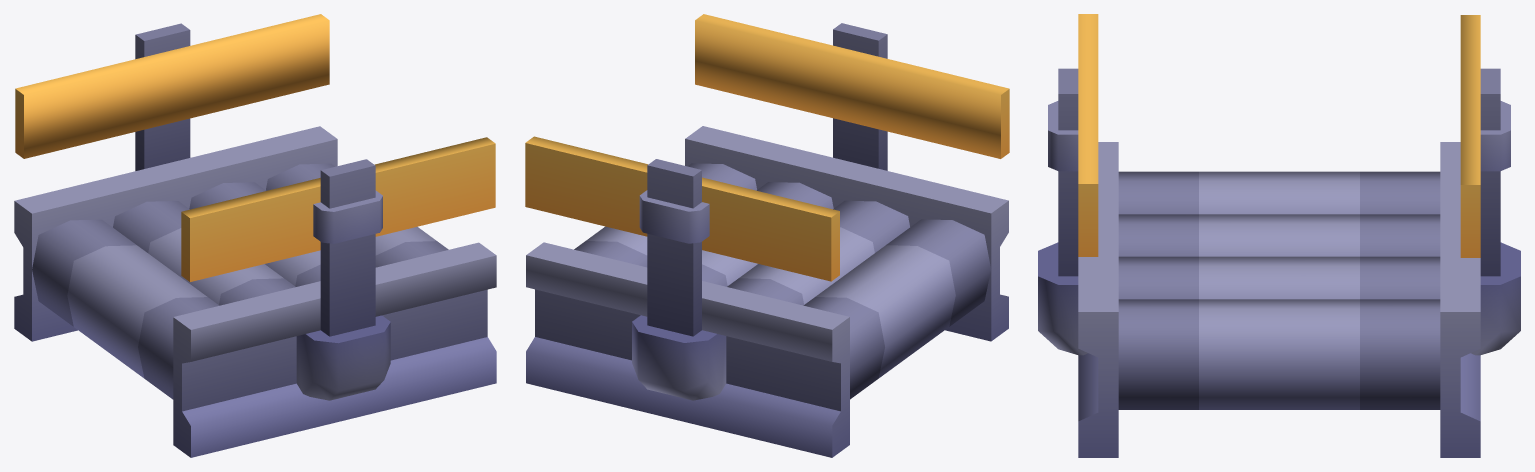
File: conveyor-bars-stripe-fence.fbx
3 renders of one model, left to right at view 1: azimuth 30°, elevation 25°; view 2: azimuth 150°, elevation 25°; view 3: azimuth 270°, elevation 25°, orthographic. The views are drawn at different scales.
Visible parts, largest first — view 1: conveyor-bars-stripe-fence; view 2: conveyor-bars-stripe-fence; view 3: conveyor-bars-stripe-fence.
Boxes of the visible parts, bbox=[...] form: conveyor-bars-stripe-fence: bbox=[14, 14, 496, 457]; conveyor-bars-stripe-fence: bbox=[525, 14, 1009, 457]; conveyor-bars-stripe-fence: bbox=[1038, 14, 1520, 457].
Bounding box in the file's own units: 101 × 80 × 120.
Materials: 1 (1 with a texture image).
